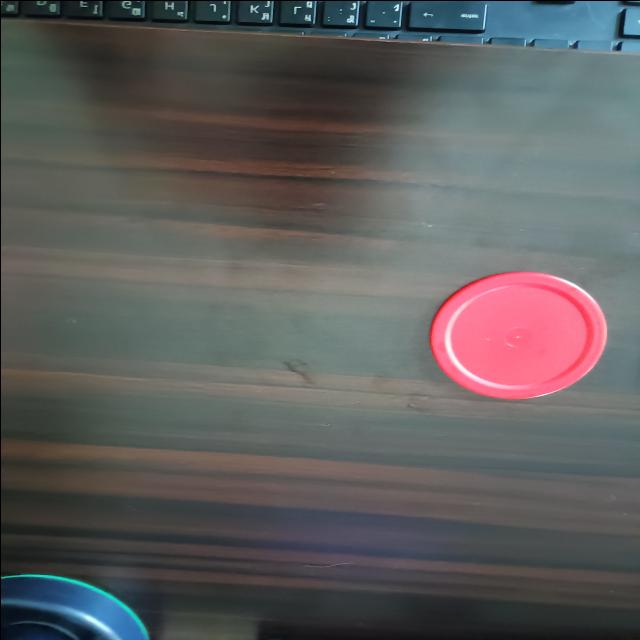chip: (429, 269, 609, 402)
